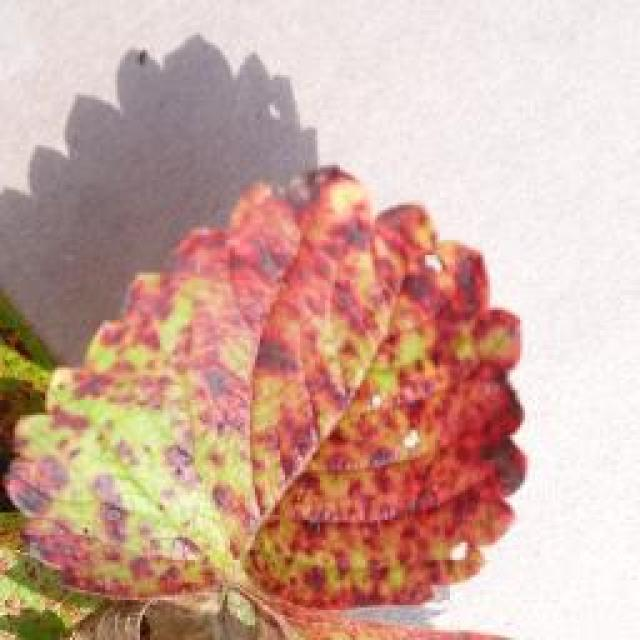Strawberry leaf scorch: (138, 113, 565, 610)
